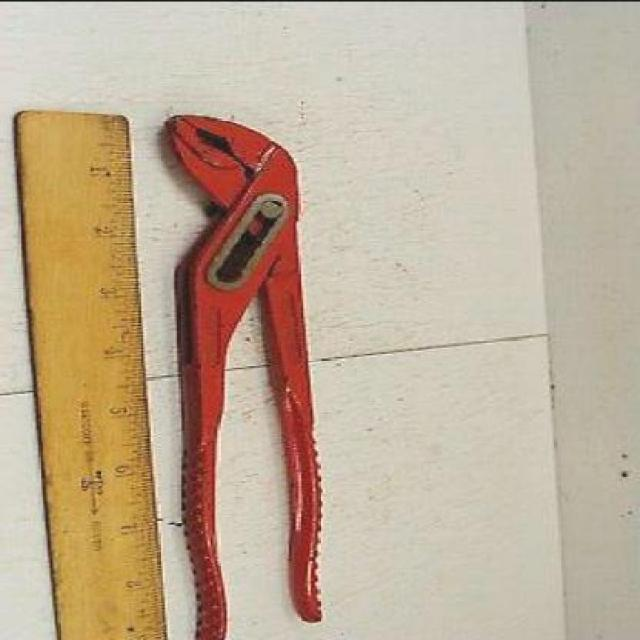pliers: (167, 106, 327, 640)
